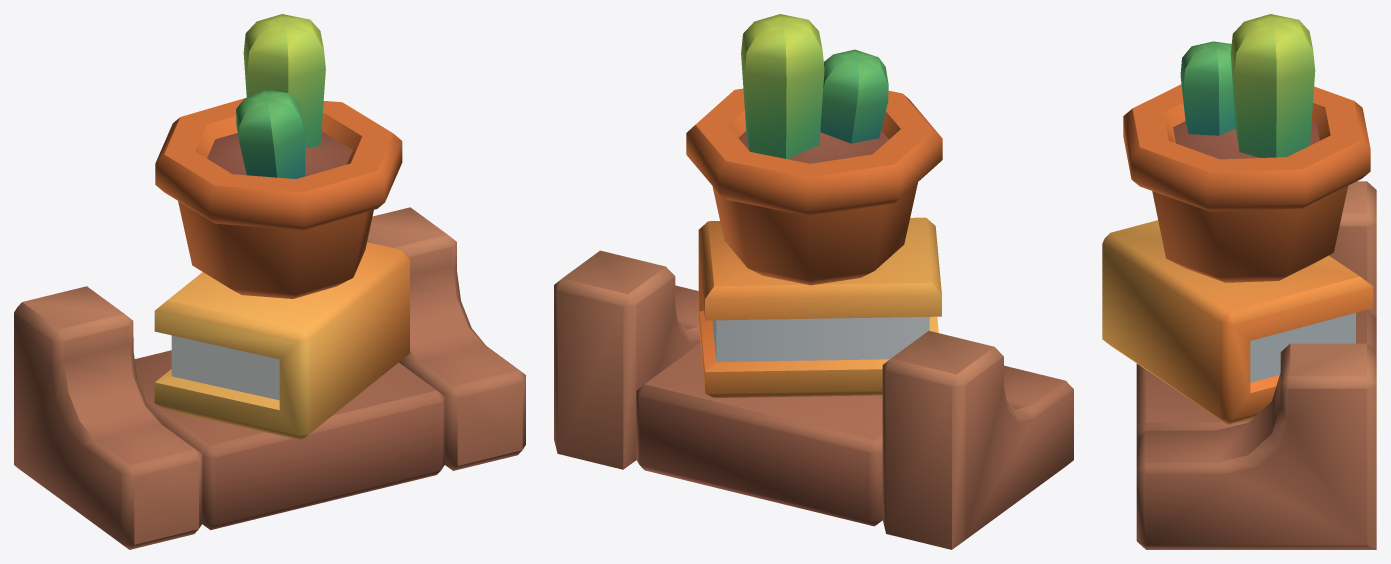
Rendered from shelf_b_small_decorated.glb.
3 views of the same model, side by side, from view 1: azimuth 30°, elevation 25°; view 2: azimuth 150°, elevation 25°; view 3: azimuth 270°, elevation 25° (orthographic). The views are drawn at different scales.
Visible parts, largest first — view 1: shelf_B_small_decorated; view 2: shelf_B_small_decorated; view 3: shelf_B_small_decorated.
Boxes of the visible parts, x1,y1,x2,y2 form: shelf_B_small_decorated: (14,14,525,549); shelf_B_small_decorated: (554,14,1073,549); shelf_B_small_decorated: (1102,14,1376,549).
Size of the model in its own units: 0.7 by 0.7081 by 0.3999.
Materials: 1 (1 with a texture image).
